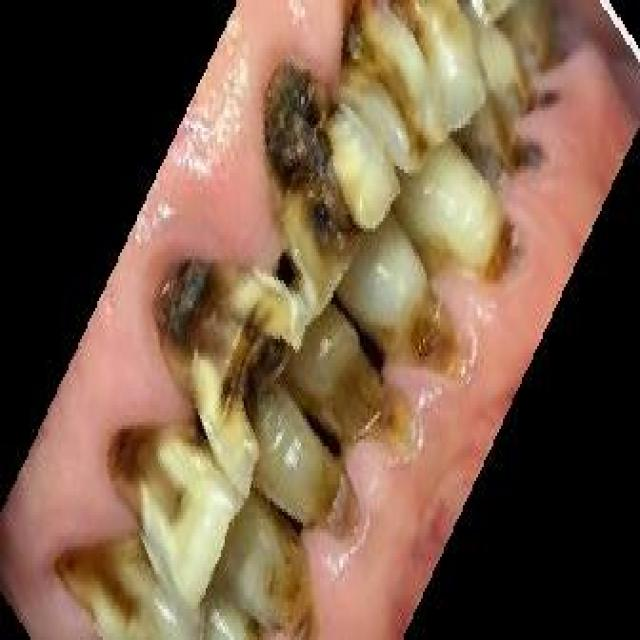caries: (152, 241, 294, 463), (259, 56, 387, 290), (337, 1, 434, 166), (96, 409, 196, 545), (47, 519, 157, 640), (322, 336, 413, 454), (384, 278, 468, 388), (466, 102, 546, 205), (249, 519, 315, 640), (300, 436, 360, 554), (477, 198, 535, 300), (501, 50, 565, 131)
